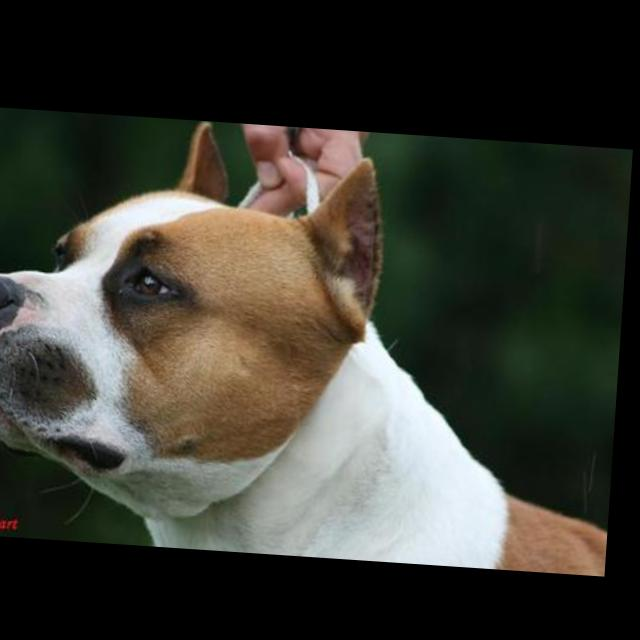amstaff: (1, 108, 635, 568)
